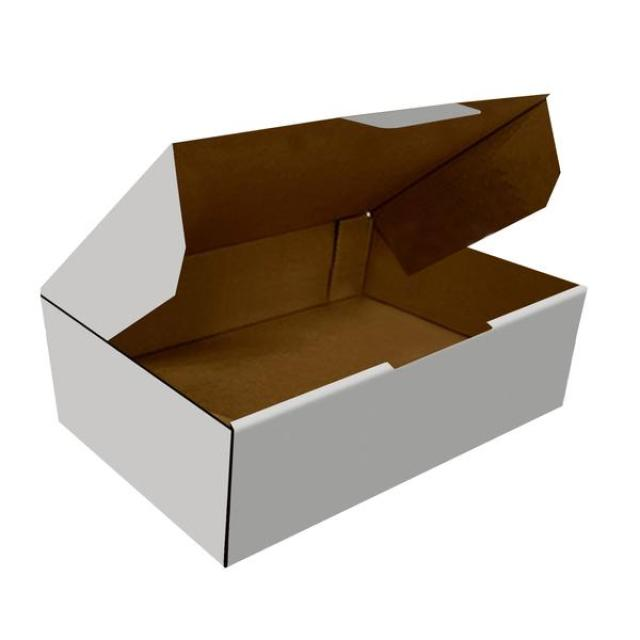Garbage: (41, 91, 586, 567)
